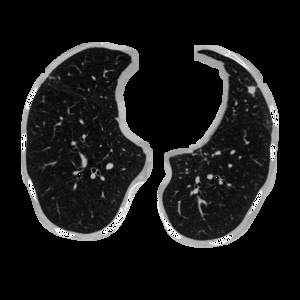PN: (248, 85, 256, 93)
